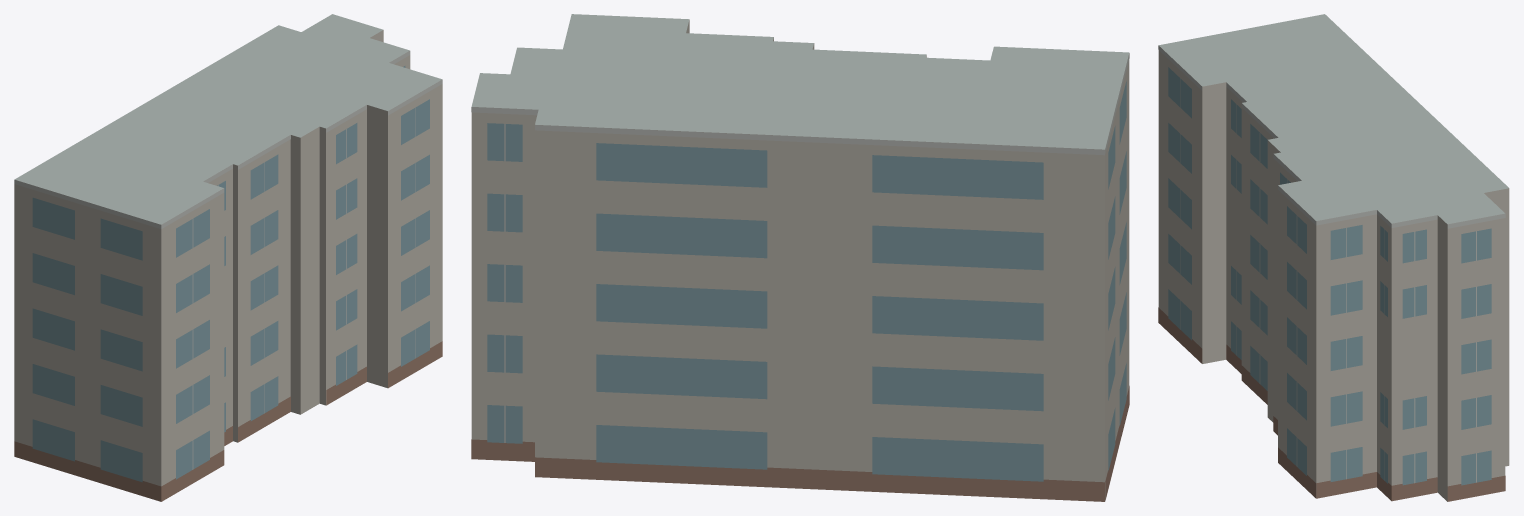
Rendered from survey-upis-32620852.glb.
The picture shows the model from 3 angles, left to right: view 1: azimuth 30°, elevation 25°; view 2: azimuth 150°, elevation 25°; view 3: azimuth 270°, elevation 25°; orthographic projection. The views are drawn at different scales.
Parts seen in each view (by area): view 1: survey-upis-32620852.tmp; view 2: survey-upis-32620852.tmp; view 3: survey-upis-32620852.tmp.
Part boxes in pixels (x1,y1,x2,y2): survey-upis-32620852.tmp: [14, 14, 442, 501]; survey-upis-32620852.tmp: [471, 14, 1129, 501]; survey-upis-32620852.tmp: [1158, 14, 1509, 501].
Size of the model in its own units: 24.8 by 15.25 by 17.49.
